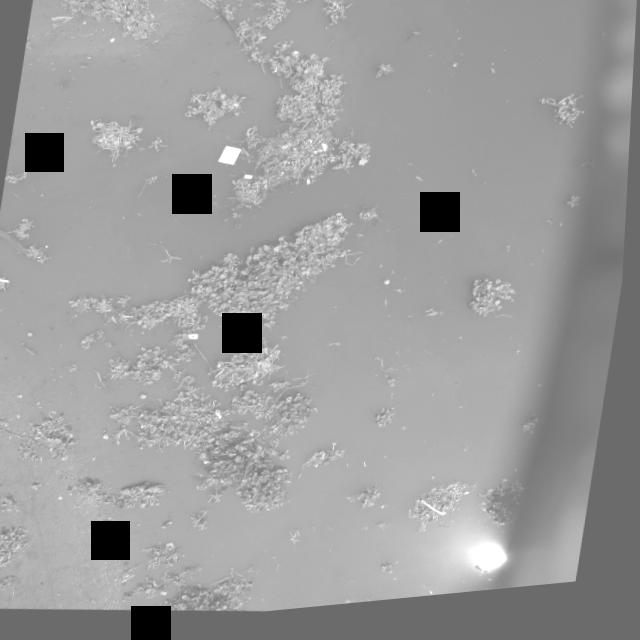plastic: (213, 146, 246, 173), (45, 10, 72, 34), (58, 20, 84, 39), (163, 521, 179, 534), (310, 151, 325, 163), (214, 412, 228, 424), (340, 255, 352, 267), (166, 545, 182, 554), (242, 177, 257, 186), (279, 147, 294, 156), (358, 164, 370, 175), (192, 394, 203, 406), (189, 335, 202, 345), (240, 387, 253, 397), (233, 226, 245, 236), (0, 277, 13, 285), (104, 344, 117, 351), (141, 396, 152, 404), (106, 38, 116, 46), (305, 184, 315, 191), (264, 151, 271, 161), (384, 286, 393, 293), (29, 331, 36, 339), (234, 106, 240, 112)
